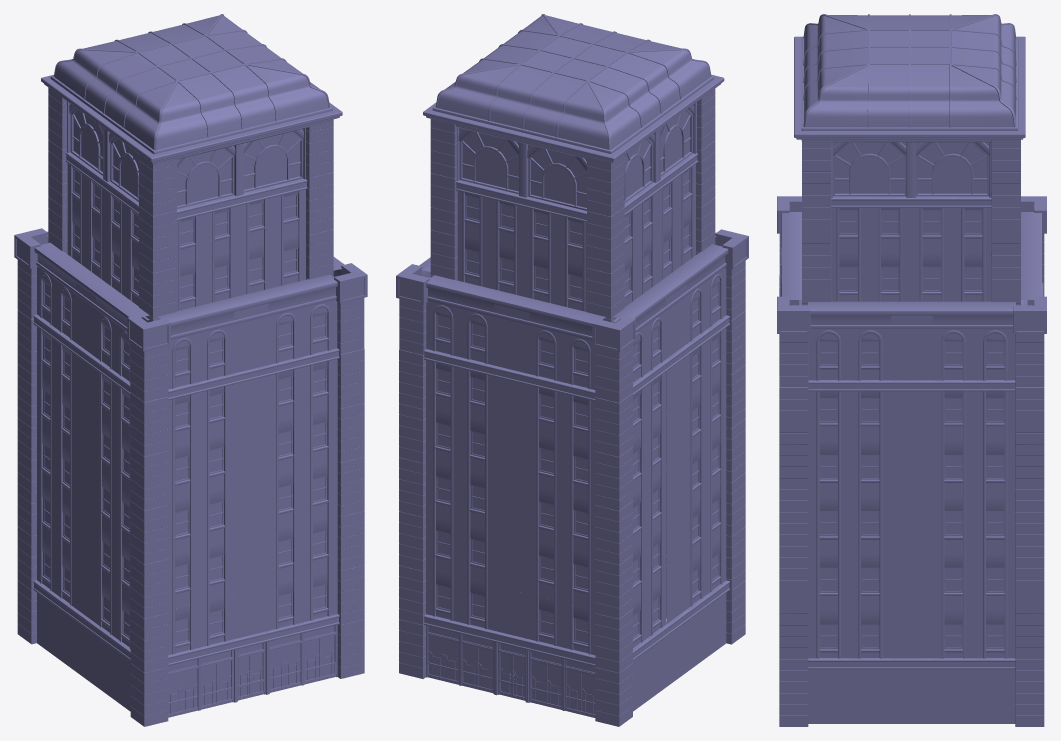
Rendered from building_02.fbx.
3 renders of one model, left to right at view 1: azimuth 30°, elevation 25°; view 2: azimuth 150°, elevation 25°; view 3: azimuth 270°, elevation 25°, orthographic. The views are drawn at different scales.
Parts seen in each view (by area): view 1: building_02; view 2: building_02; view 3: building_02.
Boxes of the visible parts, x1,y1,x2,y2 form: building_02: [14, 14, 367, 726]; building_02: [396, 14, 748, 726]; building_02: [777, 14, 1046, 726].
Size of the model in its own units: 1303 by 3311 by 1298.
